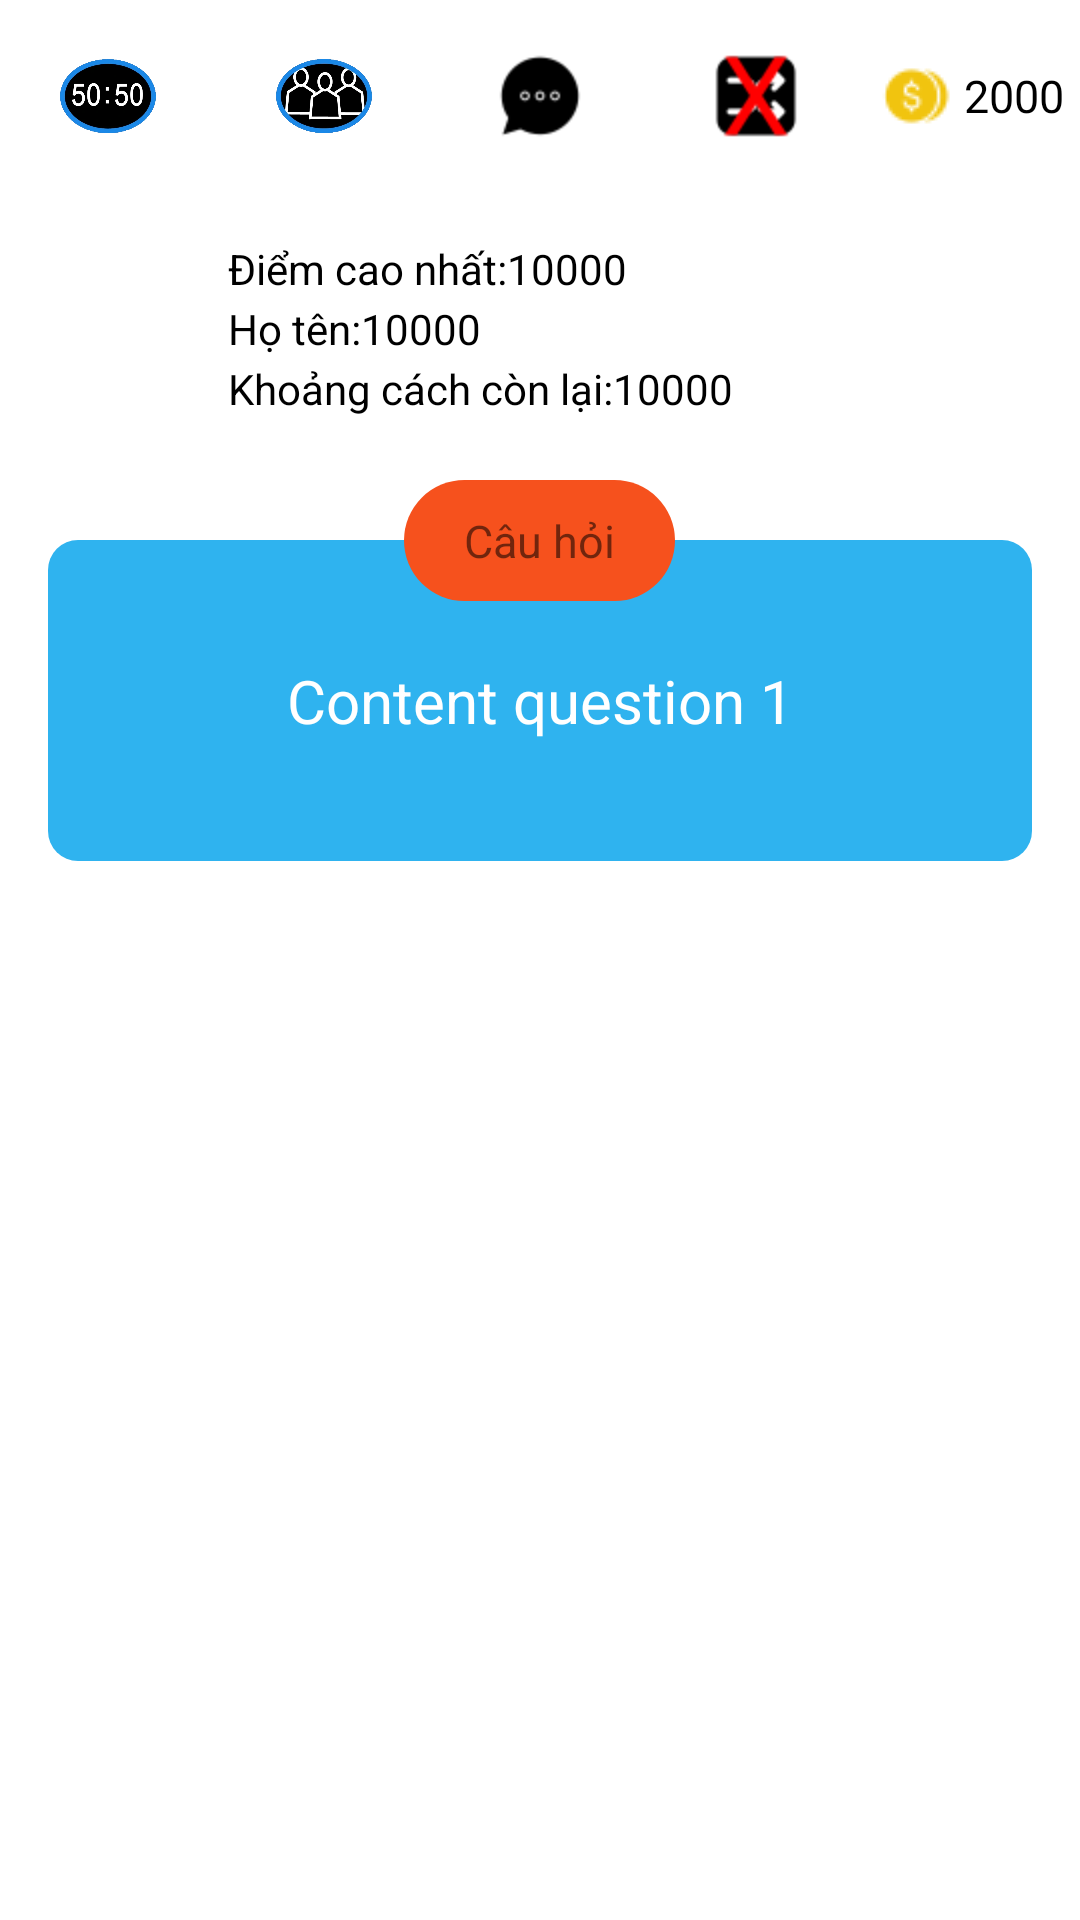

Icons on this 1080 × 1920 Android screen, each with the point to tap as [x,y]:
ask old: [324,96]
comment: [540,96]
no random help: [756,96]
score: [917,96]
